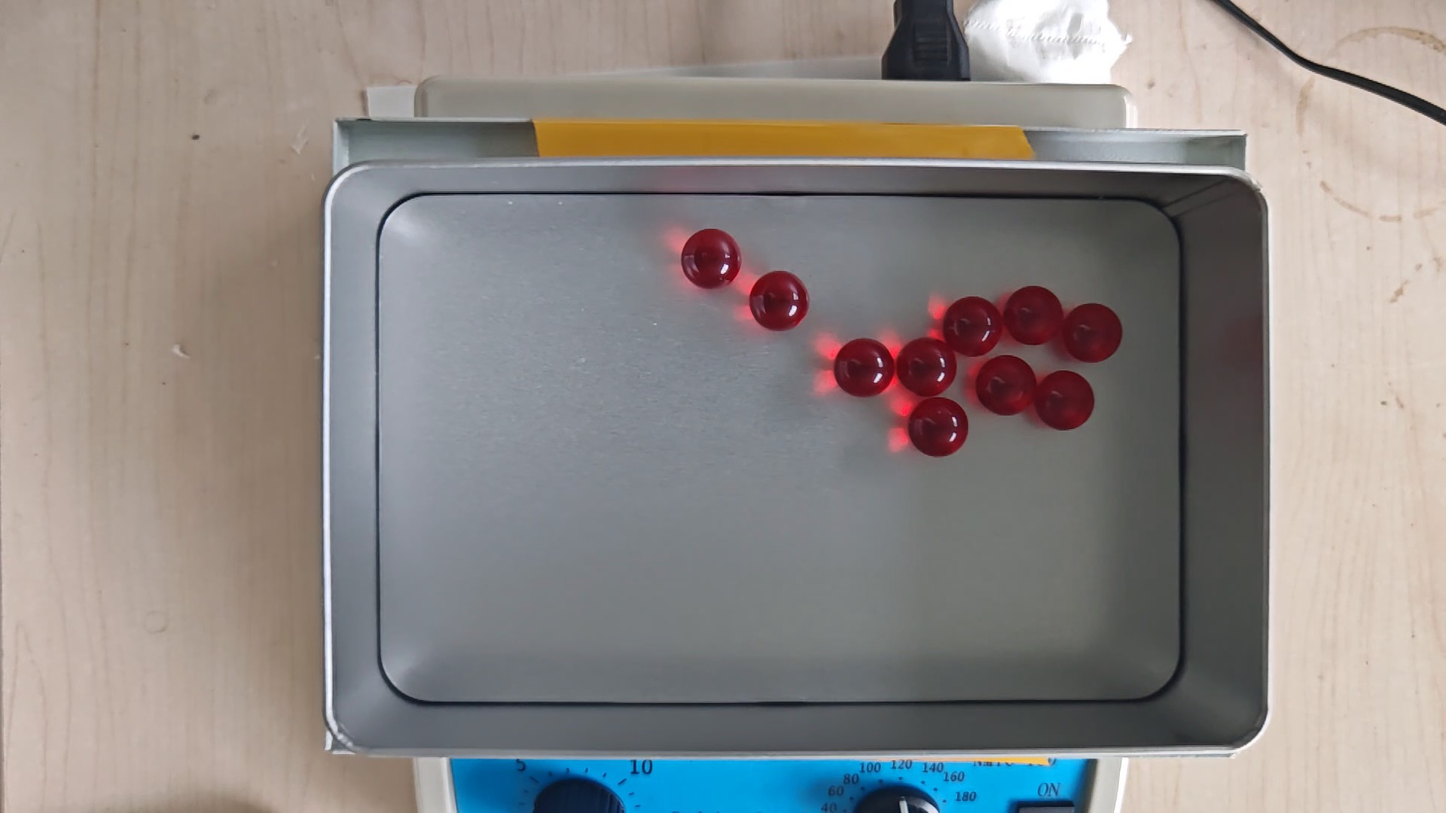ball: (681, 227, 741, 290), (834, 337, 894, 399), (1004, 285, 1064, 346), (909, 397, 969, 458), (976, 356, 1036, 416), (750, 271, 809, 332), (1037, 370, 1095, 432), (1064, 303, 1122, 363), (899, 336, 956, 397), (944, 296, 1002, 355)
container: (377, 194, 1182, 703)
